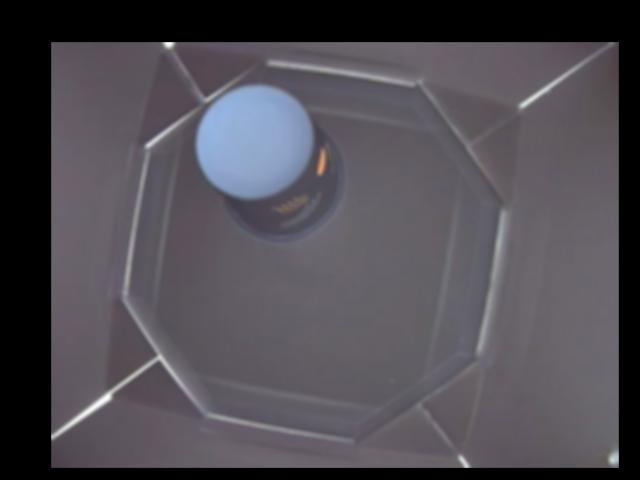Cup: (194, 82, 346, 241)
